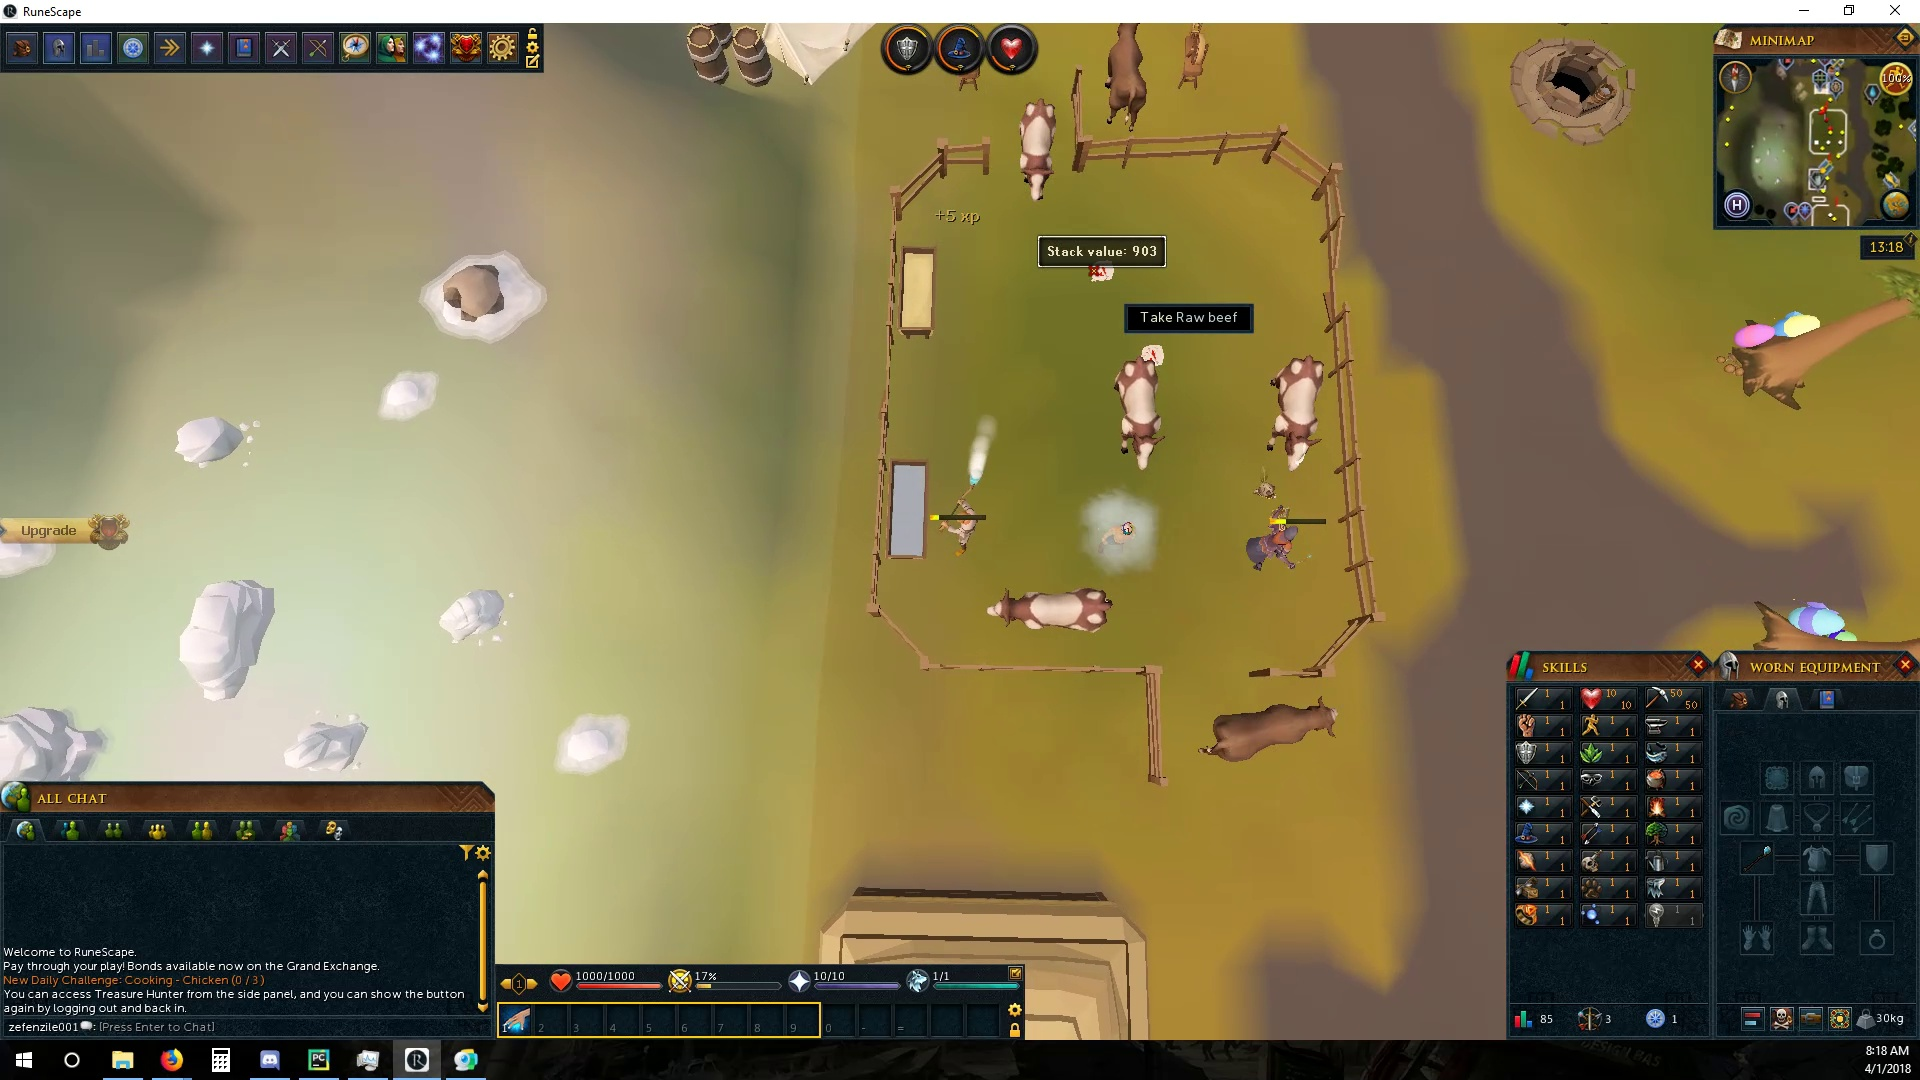cow: (1197, 695, 1342, 771), (1265, 352, 1327, 473), (982, 585, 1116, 636), (1112, 357, 1170, 471), (1102, 22, 1150, 132), (1015, 94, 1060, 203)
cow_drop: (1139, 344, 1170, 368)
